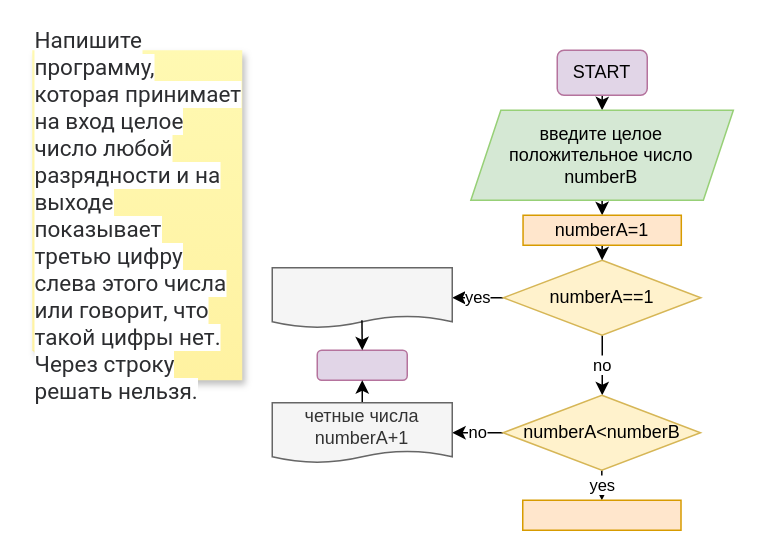
The diagram is 759 pixels wide and 557 high, and some of its shapes have lost their labels. Each missing label, with the centre of its shape:
"FINISH" belongs at [361,364].
"numberA+=2" belongs at [601,514].
"четные числа отсутствуют" belongs at [361,297].
